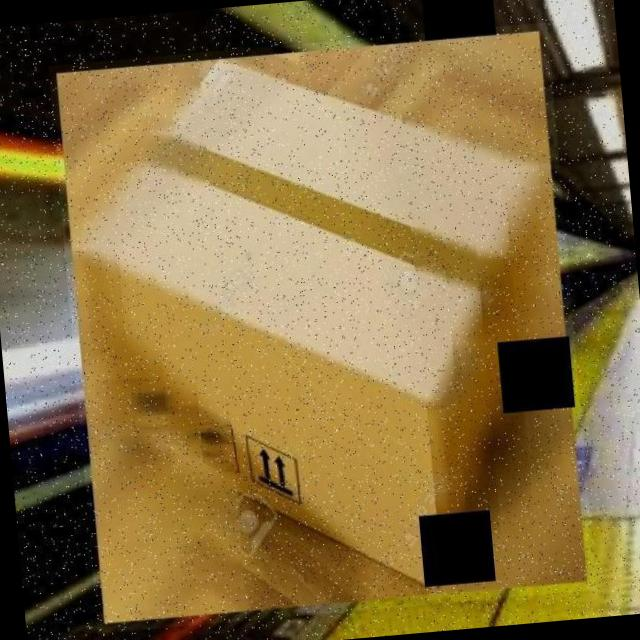box: (48, 22, 596, 633)
